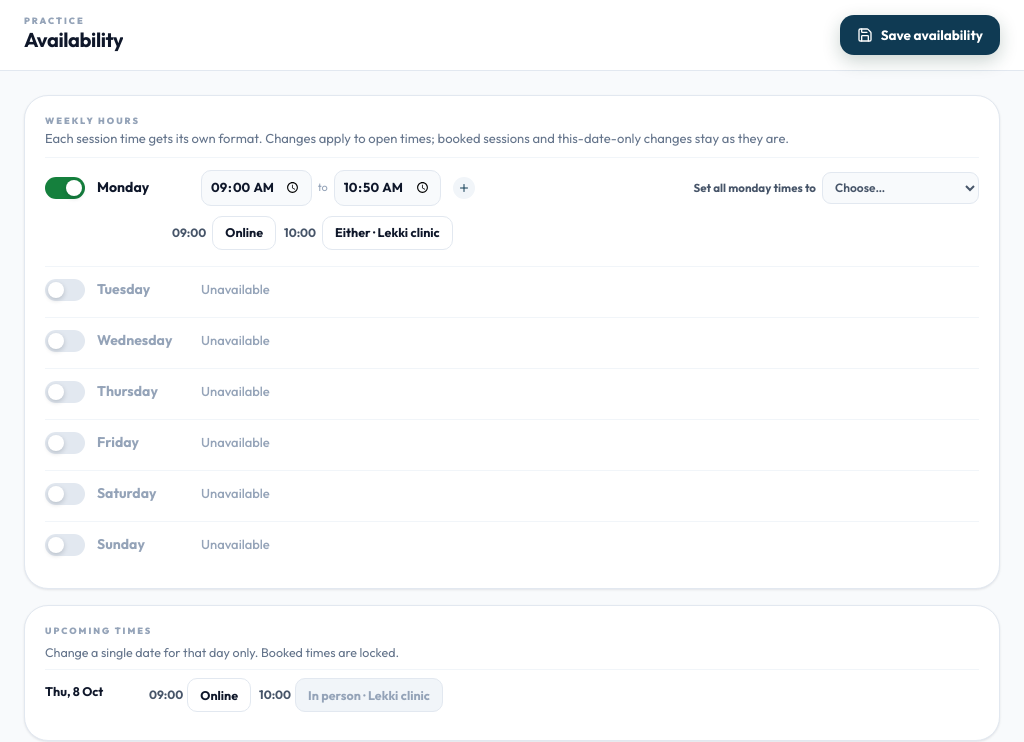
Test: the availability page › the server 400 text shows in the error banner
The image size is (1024, 742).
Check: the text "Monday" is shown, box [97,178,149,196]
What coordinates should you click on to do the following:
click the button "Save availability"
I would click on:
 (920, 35)
Its box is [840,15,1000,55].
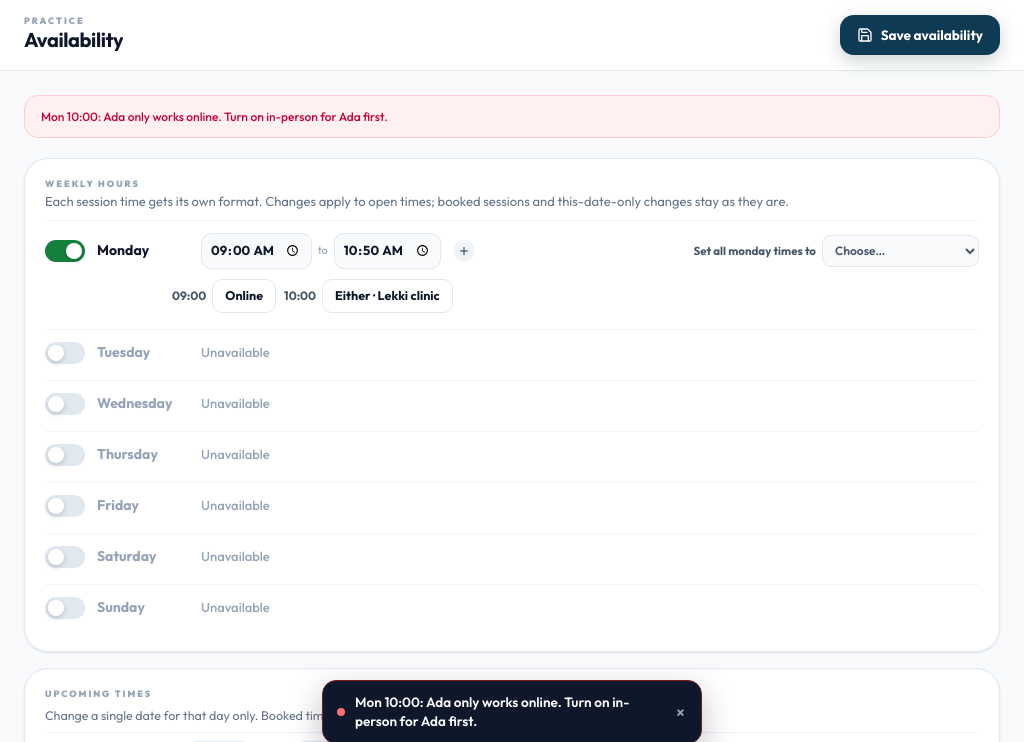
Check: the text "Mon 10:00: Ada only works online. Turn on in-person for Ada first." is shown, box [24,95,1000,138]
